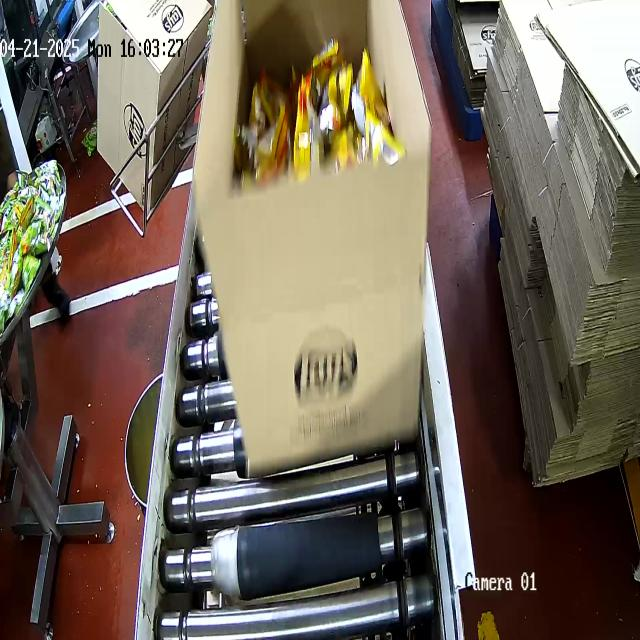SALTED: (231, 39, 399, 167)
